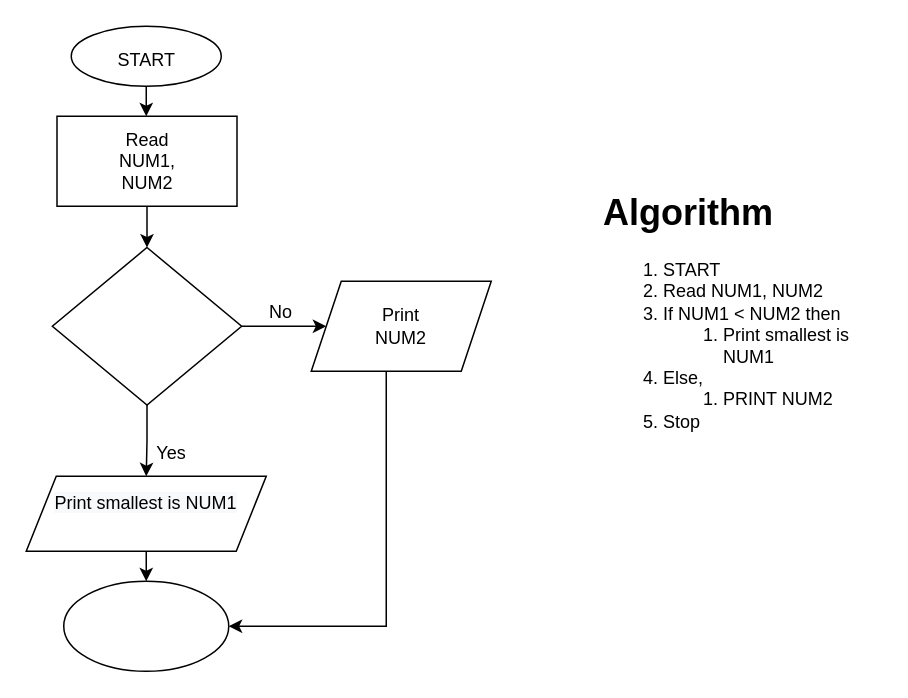
Image size: 908x698. Some labels were removed from this diagram. Each missing label, with the box of its shape:
NUM1 < NUM2: (51, 246, 242, 405)
STOP: (62, 580, 229, 671)
